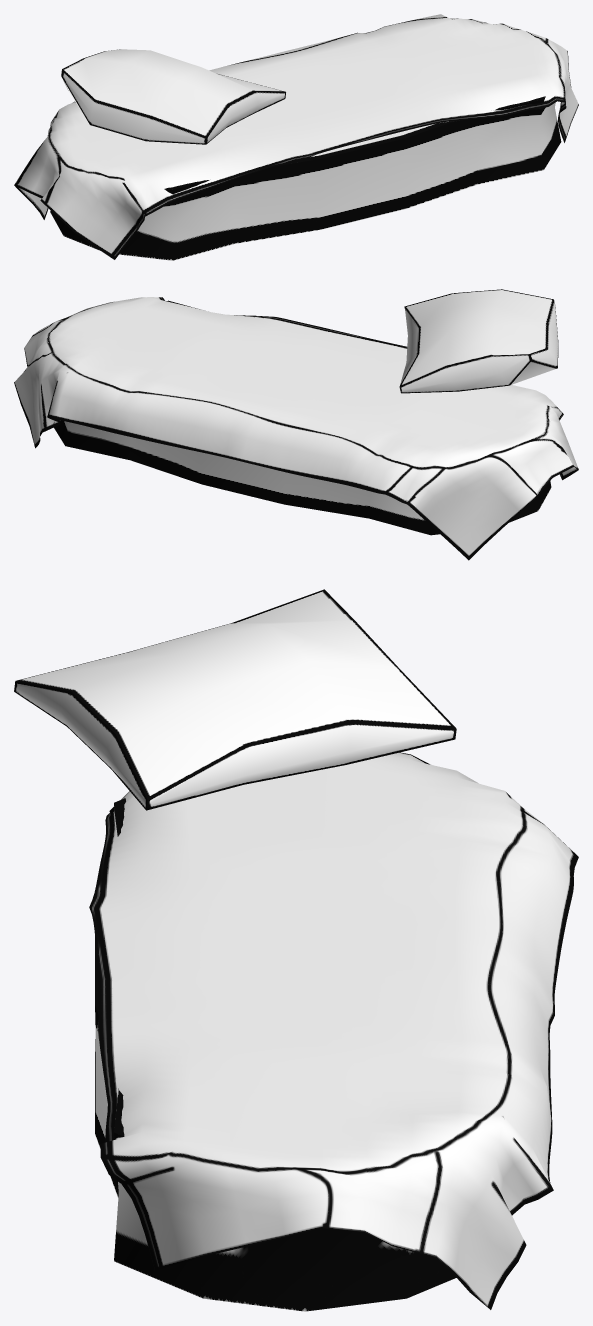
Rendered from bedAll.FBX.
3 views of the same model, one above another, from view 1: azimuth 30°, elevation 25°; view 2: azimuth 150°, elevation 25°; view 3: azimuth 270°, elevation 25° (orthographic). The views are drawn at different scales.
Parts seen in each view (by area): view 1: Plane001; view 2: Plane001; view 3: Plane001.
Boxes of the visible parts, left/top/right/bottom form: Plane001: left=14, top=14, right=578, bottom=260; Plane001: left=14, top=289, right=578, bottom=560; Plane001: left=14, top=589, right=578, bottom=1311.
Bounding box in the file's own units: 57.28 × 19.4 × 28.58.
